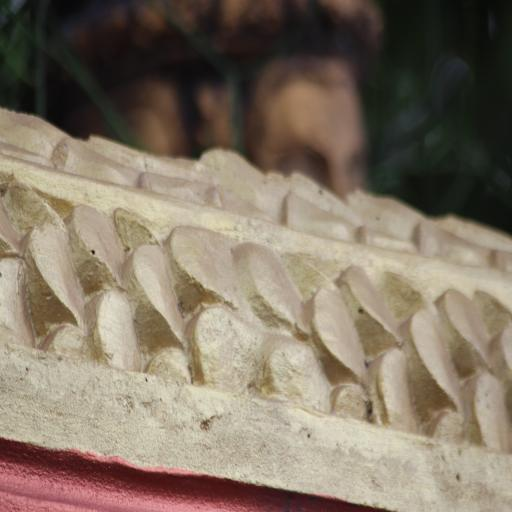la: (5, 173, 183, 387), (184, 224, 363, 412), (363, 270, 512, 452)
